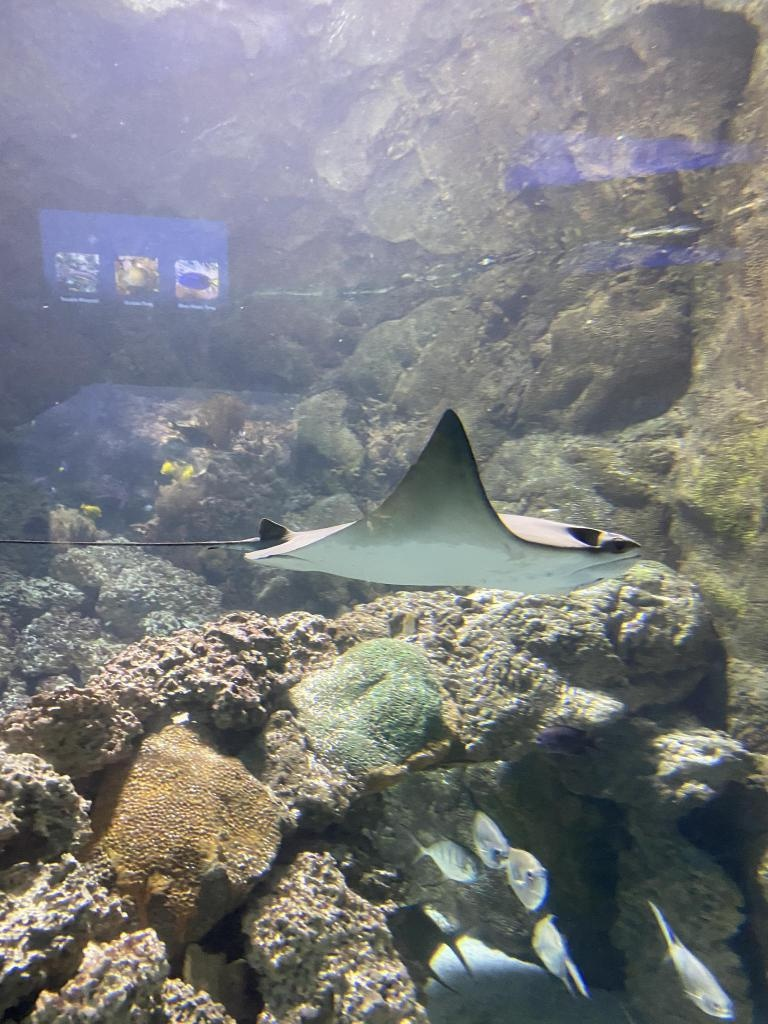fish: (650, 900, 732, 1016), (534, 915, 586, 993), (414, 834, 486, 882), (509, 847, 546, 907), (474, 805, 509, 867)
stingray: (242, 404, 648, 592)
